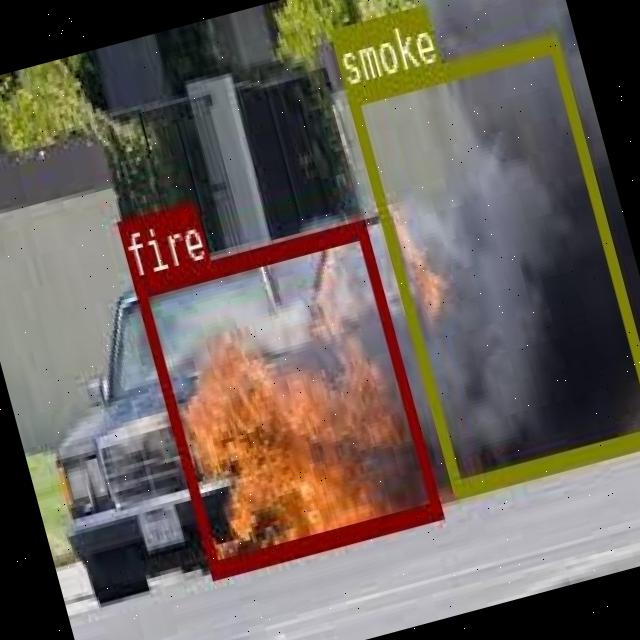fire: (130, 218, 439, 576)
smoke: (344, 32, 640, 495)
